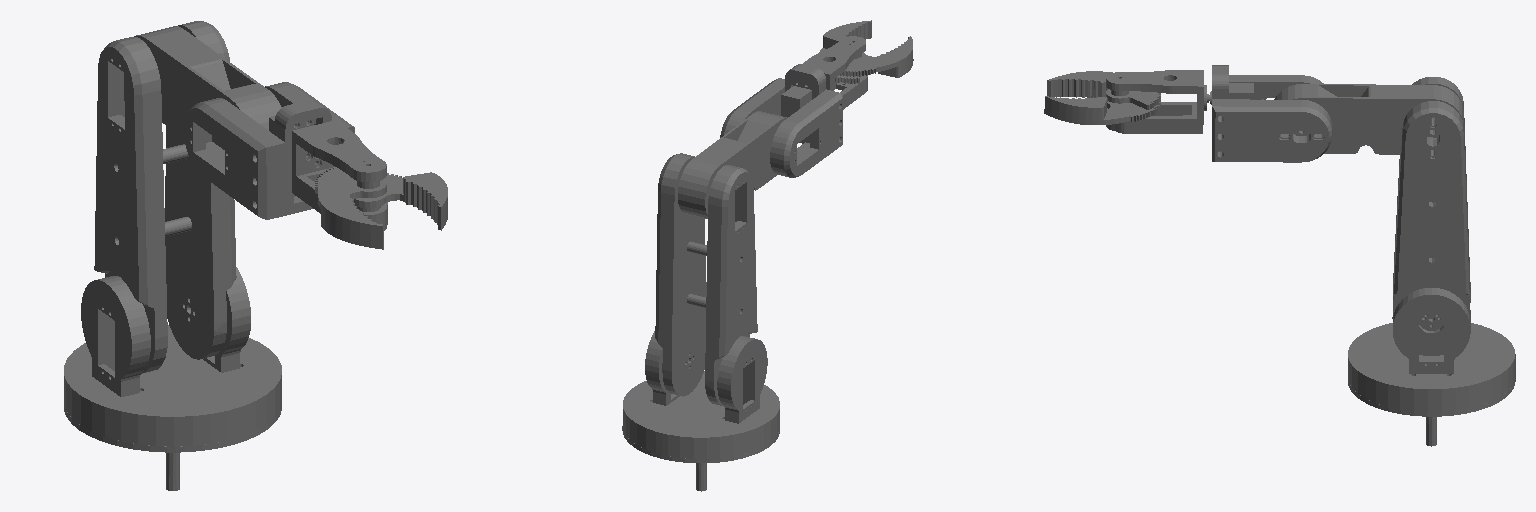
URDF robot description (isro_robotic_arm_new):
<?xml version="1.0" encoding="utf-8"?>
<!-- This URDF was automatically created by SolidWorks to URDF Exporter! Originally created by [author] ([email redacted]) 
     Commit Version: 1.5.1-0-g916b5db  Build Version: 1.5.7152.31018
     For more information, please see http://wiki.ros.org/sw_urdf_exporter -->
<robot
  name="isro_robotic_arm_new">
  <link
    name="base_link">
    <inertial>
      <origin
        xyz="0.000454528386228833 -0.000302669270904221 0.0302331731944049"
        rpy="0 0 0" />
      <mass
        value="0.555206588878508" />
      <inertia
        ixx="0.00100566469503316"
        ixy="-1.36920441366169E-05"
        ixz="-6.05386038711752E-07"
        iyy="0.00099809821083753"
        iyz="2.78623219846149E-07"
        izz="0.00194501574960672" />
    </inertial>
    <visual>
      <origin
        xyz="0 0 0"
        rpy="0 0 0" />
      <geometry>
        <mesh
          filename="package://isro_robotic_arm_new/meshes/base_link.STL" />
      </geometry>
      <material
        name="">
        <color
          rgba="0.501960784313725 0.501960784313725 0.501960784313725 1" />
      </material>
    </visual>
    <collision>
      <origin
        xyz="0 0 0"
        rpy="0 0 0" />
      <geometry>
        <mesh
          filename="package://isro_robotic_arm_new/meshes/base_link.STL" />
      </geometry>
    </collision>
  </link>
  <link
    name="link_1">
    <inertial>
      <origin
        xyz="-0.00129528059724605 -0.00183017478543235 -0.000105390902916391"
        rpy="0 0 0" />
      <mass
        value="0.368463521364962" />
      <inertia
        ixx="0.000589336378921301"
        ixy="6.76692982782835E-16"
        ixz="3.36153373241822E-15"
        iyy="0.00101850958801356"
        iyz="1.91925947447566E-07"
        izz="0.000551134485833059" />
    </inertial>
    <visual>
      <origin
        xyz="0 0 0"
        rpy="0 0 0" />
      <geometry>
        <mesh
          filename="package://isro_robotic_arm_new/meshes/link_1.STL" />
      </geometry>
      <material
        name="">
        <color
          rgba="0.501960784313725 0.501960784313725 0.501960784313725 1" />
      </material>
    </visual>
    <collision>
      <origin
        xyz="0 0 0"
        rpy="0 0 0" />
      <geometry>
        <mesh
          filename="package://isro_robotic_arm_new/meshes/link_1.STL" />
      </geometry>
    </collision>
  </link>
  <joint
    name="joint_1"
    type="revolute">
    <origin
      xyz="0 0 0.09225"
      rpy="-1.5708 0 0" />
    <parent
      link="base_link" />
    <child
      link="link_1" />
    <axis
      xyz="0 1 0" />
    <limit
      lower="0"
      upper="6.283"
      effort="300"
      velocity="3" />
  </joint>
  <link
    name="link_2">
    <inertial>
      <origin
        xyz="-0.0173938365175276 2.48134846003722E-14 -0.0932380394807353"
        rpy="0 0 0" />
      <mass
        value="0.460676266929449" />
      <inertia
        ixx="0.00184587833790606"
        ixy="-7.66246505564162E-13"
        ixz="1.59351514099875E-06"
        iyy="0.00171083372728511"
        iyz="1.56054259537726E-13"
        izz="0.00016644976368905" />
    </inertial>
    <visual>
      <origin
        xyz="0 0 0"
        rpy="0 0 0" />
      <geometry>
        <mesh
          filename="package://isro_robotic_arm_new/meshes/link_2.STL" />
      </geometry>
      <material
        name="">
        <color
          rgba="0.501960784313725 0.501960784313725 0.501960784313725 1" />
      </material>
    </visual>
    <collision>
      <origin
        xyz="0 0 0"
        rpy="0 0 0" />
      <geometry>
        <mesh
          filename="package://isro_robotic_arm_new/meshes/link_2.STL" />
      </geometry>
    </collision>
  </link>
  <joint
    name="joint_2"
    type="revolute">
    <origin
      xyz="0.01266 -0.043 0"
      rpy="-1.5788 0 0" />
    <parent
      link="link_1" />
    <child
      link="link_2" />
    <axis
      xyz="1 0 0" />
    <limit
      lower="0"
      upper="3.142"
      effort="300"
      velocity="3" />
  </joint>
  <link
    name="link_3">
    <inertial>
      <origin
        xyz="0.000113073323768614 -0.000707151250188505 -0.0578023076202162"
        rpy="0 0 0" />
      <mass
        value="0.233433056175268" />
      <inertia
        ixx="0.000571109636740069"
        ixy="-1.86652936947289E-08"
        ixz="2.50143892078807E-08"
        iyy="0.000533764178562199"
        iyz="-4.65917846588896E-06"
        izz="7.15009693491387E-05" />
    </inertial>
    <visual>
      <origin
        xyz="0 0 0"
        rpy="0 0 0" />
      <geometry>
        <mesh
          filename="package://isro_robotic_arm_new/meshes/link_3.STL" />
      </geometry>
      <material
        name="">
        <color
          rgba="0.501960784313725 0.501960784313725 0.501960784313725 1" />
      </material>
    </visual>
    <collision>
      <origin
        xyz="0 0 0"
        rpy="0 0 0" />
      <geometry>
        <mesh
          filename="package://isro_robotic_arm_new/meshes/link_3.STL" />
      </geometry>
    </collision>
  </link>
  <joint
    name="joint_3"
    type="revolute">
    <origin
      xyz="-0.0184 0 -0.185"
      rpy="-1.5696 0 3.1416" />
    <parent
      link="link_2" />
    <child
      link="link_3" />
    <axis
      xyz="1 0 0" />
    <limit
      lower="-3.927"
      upper="0.785"
      effort="300"
      velocity="3" />
  </joint>
  <link
    name="link_4">
    <inertial>
      <origin
        xyz="-0.0164766971219827 -0.00214733921697745 -0.0395286263542515"
        rpy="0 0 0" />
      <mass
        value="0.237132435221668" />
      <inertia
        ixx="0.0002320004492489"
        ixy="7.92790751917672E-21"
        ixz="-2.51724359466701E-07"
        iyy="0.000175352374553037"
        iyz="-6.09805618217261E-08"
        izz="7.77538891579693E-05" />
    </inertial>
    <visual>
      <origin
        xyz="0 0 0"
        rpy="0 0 0" />
      <geometry>
        <mesh
          filename="package://isro_robotic_arm_new/meshes/link_4.STL" />
      </geometry>
      <material
        name="">
        <color
          rgba="0.501960784313725 0.501960784313725 0.501960784313725 1" />
      </material>
    </visual>
    <collision>
      <origin
        xyz="0 0 0"
        rpy="0 0 0" />
      <geometry>
        <mesh
          filename="package://isro_robotic_arm_new/meshes/link_4.STL" />
      </geometry>
    </collision>
  </link>
  <joint
    name="joint_4"
    type="revolute">
    <origin
      xyz="-0.0184 0 -0.1175"
      rpy="0.0054027 0 3.1416" />
    <parent
      link="link_3" />
    <child
      link="link_4" />
    <axis
      xyz="1 0 0" />
    <limit
      lower="-3.142"
      upper="0.785"
      effort="300"
      velocity="3" />
  </joint>
  <link
    name="link_5">
    <inertial>
      <origin
        xyz="2.76519416878007E-07 0.0233833245740031 0.000606183982249847"
        rpy="0 0 0" />
      <mass
        value="0.050610365817931" />
      <inertia
        ixx="4.21509740108801E-05"
        ixy="1.56919564397777E-13"
        ixz="1.96823158449653E-13"
        iyy="4.53193193640307E-05"
        iyz="2.15367686640589E-06"
        izz="7.46329001603445E-06" />
    </inertial>
    <visual>
      <origin
        xyz="0 0 0"
        rpy="0 0 0" />
      <geometry>
        <mesh
          filename="package://isro_robotic_arm_new/meshes/link_5.STL" />
      </geometry>
      <material
        name="">
        <color
          rgba="0.501960784313725 0.501960784313725 0.501960784313725 1" />
      </material>
    </visual>
    <collision>
      <origin
        xyz="0 0 0"
        rpy="0 0 0" />
      <geometry>
        <mesh
          filename="package://isro_robotic_arm_new/meshes/link_5.STL" />
      </geometry>
    </collision>
  </link>
  <joint
    name="joint_5"
    type="fixed">
    <origin
      xyz="-0.01865 0.0073984 -0.12777"
      rpy="0 0 -3.1416" />
    <parent
      link="link_4" />
    <child
      link="link_5" />
    <axis
      xyz="0 0 -1" />
    <limit
      lower="-6.283"
      upper="6.283"
      effort="300"
      velocity="3" />
  </joint>
  <link
    name="eef_link_r">
    <inertial>
      <origin
        xyz="-0.0176853779723258 -0.0112790007486472 -0.0204831374002998"
        rpy="0 0 0" />
      <mass
        value="0.0235861713981624" />
      <inertia
        ixx="1.84146067739889E-05"
        ixy="2.53501114470455E-07"
        ixz="-2.03988901053199E-06"
        iyy="2.05791529306359E-05"
        iyz="1.71928521769893E-06"
        izz="3.36503087469021E-06" />
    </inertial>
    <visual>
      <origin
        xyz="0 0 0"
        rpy="0 0 0" />
      <geometry>
        <mesh
          filename="package://isro_robotic_arm_new/meshes/eef_link_r.STL" />
      </geometry>
      <material
        name="">
        <color
          rgba="0.501960784313725 0.501960784313725 0.501960784313725 1" />
      </material>
    </visual>
    <collision>
      <origin
        xyz="0 0 0"
        rpy="0 0 0" />
      <geometry>
        <mesh
          filename="package://isro_robotic_arm_new/meshes/eef_link_r.STL" />
      </geometry>
    </collision>
  </link>
  <joint
    name="eef_joint_r"
    type="revolute">
    <origin
      xyz="0 0.015 -0.03475"
      rpy="0 0.37686 3.1416" />
    <parent
      link="link_5" />
    <child
      link="eef_link_r" />
    <axis
      xyz="0 1 0" />
    <limit
      lower="-6.28"
      upper="6.28"
      effort="300"
      velocity="3" />
  </joint>
  <link
    name="eef_link_l">
    <inertial>
      <origin
        xyz="-0.0176852937948024 0.00622199674148659 -0.0204832377983133"
        rpy="0 0 0" />
      <mass
        value="0.0235861589775242" />
      <inertia
        ixx="1.84147275050698E-05"
        ixy="2.53492698038198E-07"
        ixz="-2.03990695003512E-06"
        iyy="2.05791818527812E-05"
        iyz="1.71929551412545E-06"
        izz="3.36493835662023E-06" />
    </inertial>
    <visual>
      <origin
        xyz="0 0 0"
        rpy="0 0 0" />
      <geometry>
        <mesh
          filename="package://isro_robotic_arm_new/meshes/eef_link_l.STL" />
      </geometry>
      <material
        name="">
        <color
          rgba="0.501960784313725 0.501960784313725 0.501960784313725 1" />
      </material>
    </visual>
    <collision>
      <origin
        xyz="0 0 0"
        rpy="0 0 0" />
      <geometry>
        <mesh
          filename="package://isro_robotic_arm_new/meshes/eef_link_l.STL" />
      </geometry>
    </collision>
  </link>
  <joint
    name="eef_joint_l"
    type="revolute">
    <origin
      xyz="0 0.02 -0.03475"
      rpy="0 0.26836 0" />
    <parent
      link="link_5" />
    <child
      link="eef_link_l" />
    <axis
      xyz="0 -1 0" />
    <limit
      lower="-6.28"
      upper="6.28"
      effort="300"
      velocity="3" />
  </joint>
</robot>

--- What the picture shows (computed from the rendered views, not written in the file) ---
The picture shows the robot from 3 angles, left to right: view 1: azimuth 30°, elevation 25°; view 2: azimuth 150°, elevation 25°; view 3: azimuth 270°, elevation 25°; orthographic projection.
Robot: isro_robotic_arm_new — 8 links, 7 joints (6 revolute, 1 fixed); root link base_link; default pose: all joints at 0.
Links seen in each view (by area): view 1: link_2, link_1, link_4, link_3, link_5, eef_link_r, eef_link_l; view 2: link_2, link_1, link_4, link_3, link_5, eef_link_r, eef_link_l; view 3: link_1, link_2, link_4, link_3, link_5, eef_link_l, eef_link_r.
Boxes of the visible links, x1=… form: link_2: x1=94, y1=21, x2=236, y2=373; link_1: x1=64, y1=267, x2=281, y2=490; link_4: x1=184, y1=82, x2=354, y2=219; link_3: x1=134, y1=26, x2=281, y2=149; link_5: x1=292, y1=120, x2=387, y2=230; eef_link_r: x1=315, y1=167, x2=386, y2=249; eef_link_l: x1=354, y1=172, x2=447, y2=230; link_2: x1=655, y1=153, x2=757, y2=405; link_1: x1=622, y1=331, x2=779, y2=491; link_4: x1=720, y1=64, x2=842, y2=177; link_3: x1=678, y1=111, x2=786, y2=218; link_5: x1=802, y1=36, x2=867, y2=109; eef_link_r: x1=840, y1=36, x2=913, y2=77; eef_link_l: x1=819, y1=20, x2=871, y2=83; link_1: x1=1348, y1=282, x2=1515, y2=446; link_2: x1=1392, y1=77, x2=1470, y2=355; link_4: x1=1209, y1=65, x2=1332, y2=162; link_3: x1=1274, y1=84, x2=1463, y2=154; link_5: x1=1106, y1=70, x2=1208, y2=133; eef_link_l: x1=1044, y1=96, x2=1160, y2=124; eef_link_r: x1=1047, y1=71, x2=1160, y2=109.
Bounding box of the posed robot: 0.1499 × 0.4209 × 0.3659 m (x, y, z).
7 mesh visuals loaded from 8 distinct referenced files (7 binary STL); not drawn: 1 (reference not matched to a file when rendering).
